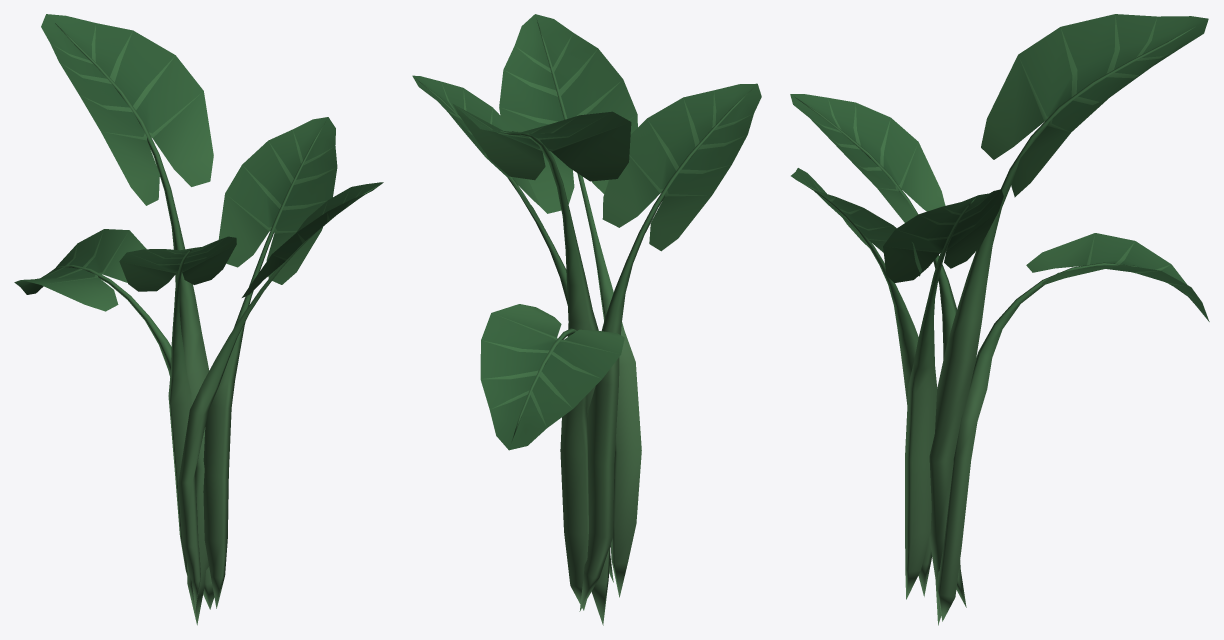
File: plants-leafy-plants-broadleaf-plant_v6.fbx
The picture shows the model from 3 angles, left to right: view 1: azimuth 30°, elevation 25°; view 2: azimuth 150°, elevation 25°; view 3: azimuth 270°, elevation 25°; orthographic projection. The views are drawn at different scales.
Visible parts, largest first — view 1: Broadleaf Plant_v6; view 2: Broadleaf Plant_v6; view 3: Broadleaf Plant_v6.
Boxes of the visible parts, x1=… form: Broadleaf Plant_v6: x1=14, y1=14, x2=383, y2=625; Broadleaf Plant_v6: x1=412, y1=14, x2=761, y2=625; Broadleaf Plant_v6: x1=790, y1=14, x2=1209, y2=625.
Bounding box in the file's own units: 0.2856 × 0.6 × 0.3862.
